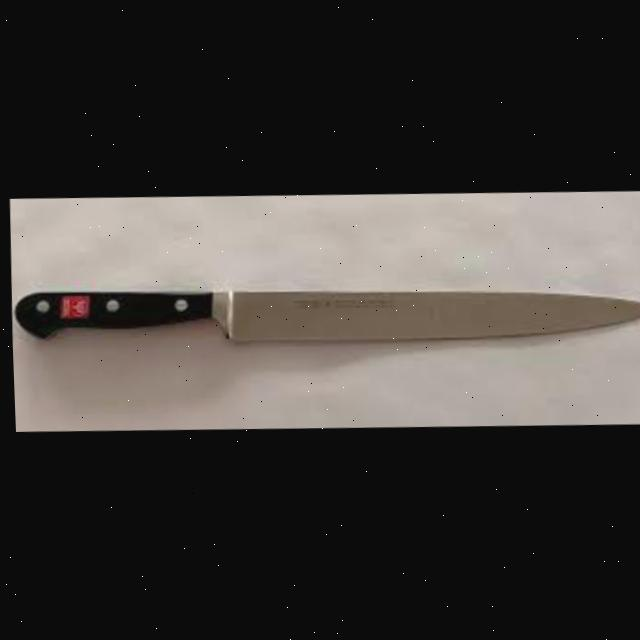Knife: (9, 275, 640, 354)
